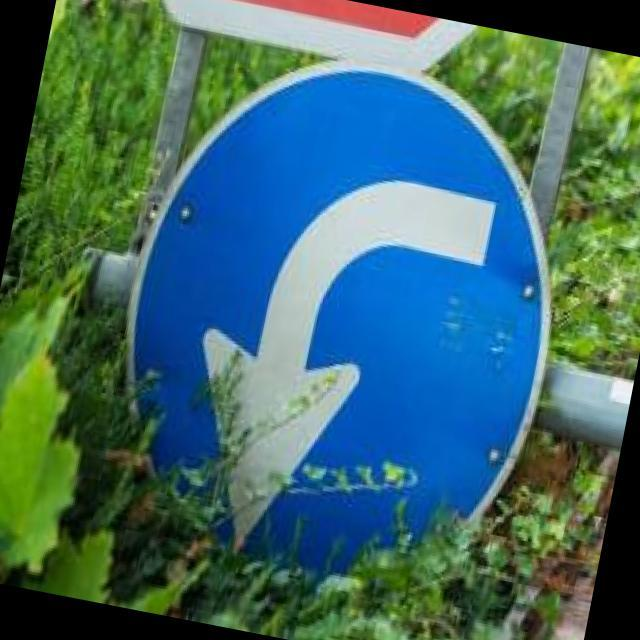obstructed_road_sign: (130, 65, 550, 574)
